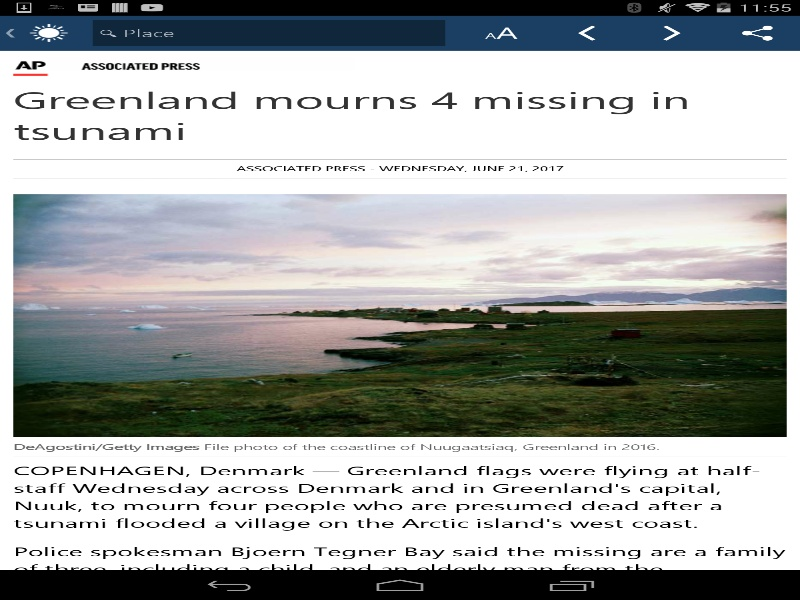Input: (92, 20, 445, 46)
